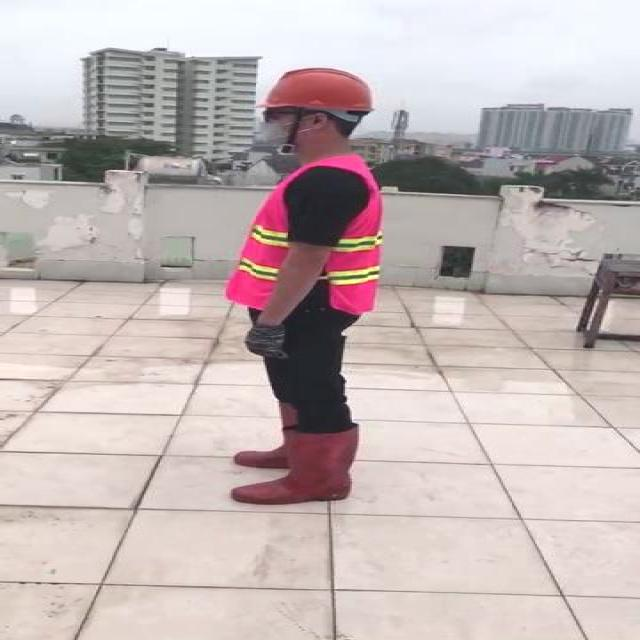boots: (231, 423, 363, 506), (233, 398, 347, 469)
face_mask: (255, 106, 309, 148)
hand_glove: (240, 321, 292, 361)
head_helmet: (260, 66, 374, 115)
person: (213, 66, 393, 509)
vest: (226, 153, 384, 314)
